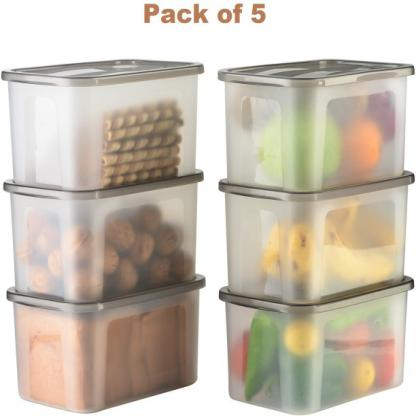plastic_box: (210, 28, 416, 197), (1, 47, 211, 202), (4, 266, 216, 414)
